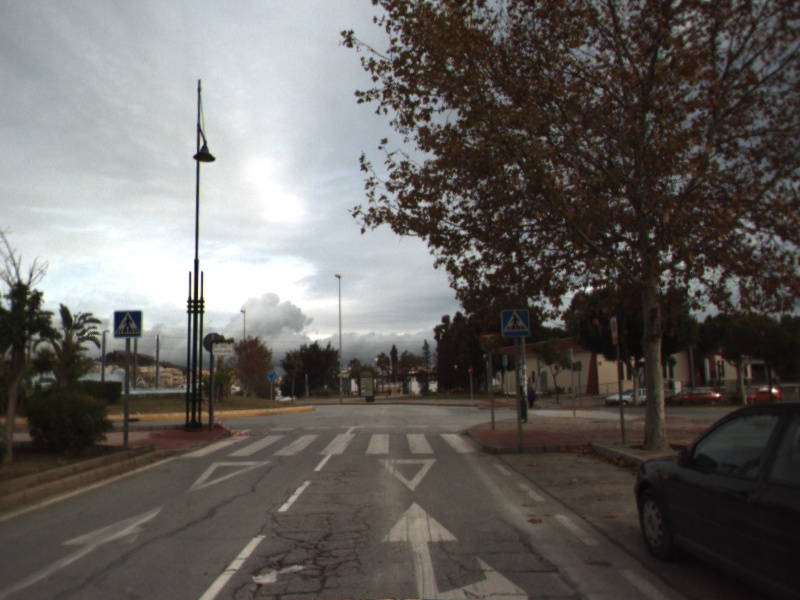STRAIGHT: (1, 502, 168, 600)
STRAIGHT_RIGHT: (379, 499, 530, 600)
